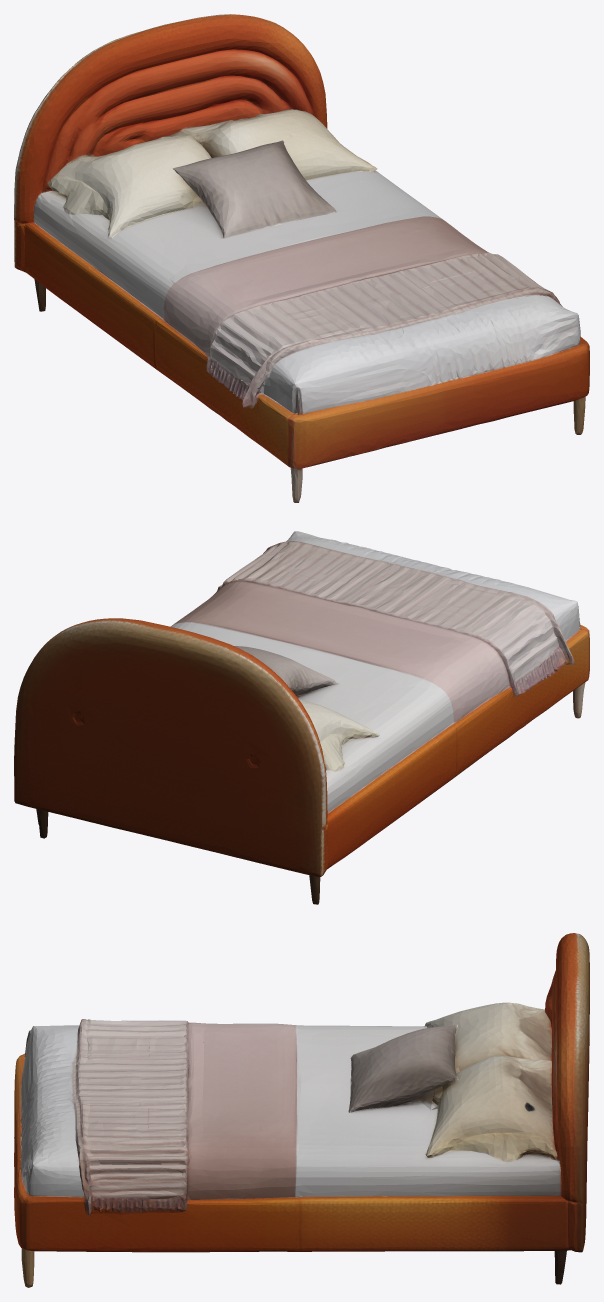
Rendered from bedOrange.glb.
3 renders of one model, top to bottom at view 1: azimuth 30°, elevation 25°; view 2: azimuth 150°, elevation 25°; view 3: azimuth 270°, elevation 25°, orthographic. The views are drawn at different scales.
Visible parts, largest first — view 1: world; view 2: world; view 3: world.
Part boxes in pixels (x1=…): world: x1=14, y1=14, x2=589, y2=502; world: x1=14, y1=531, x2=589, y2=904; world: x1=14, y1=933, x2=589, y2=1287.
Size of the model in its own units: 0.6785 by 0.4869 by 0.9977.
1 material, 1 textured.
